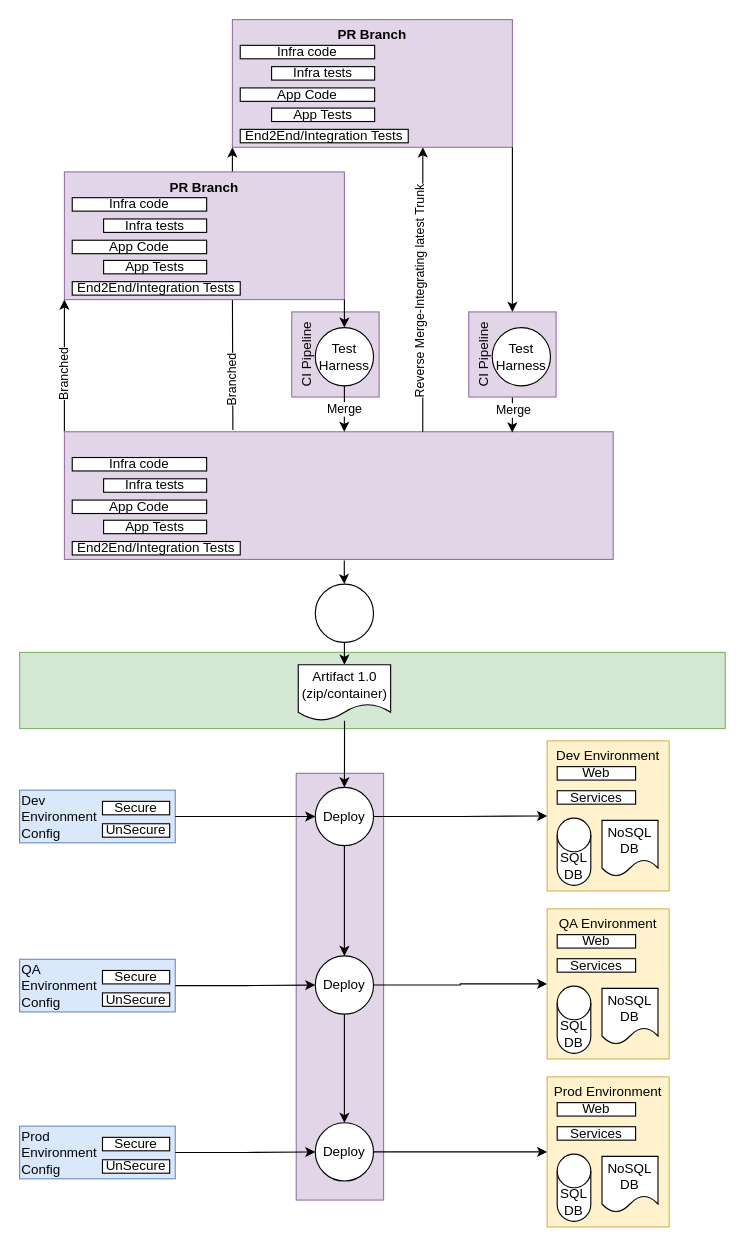
This 745x1247 diagram has some shape labels left out. Here are the shapes that lost their labels. From the top down, the box of each, then its label:
(63, 431, 613, 559): Trunk
(314, 583, 374, 642): Build/ Package
(18, 651, 725, 729): Artifactory/ Registry
(295, 772, 384, 1200): CD Pipeline
